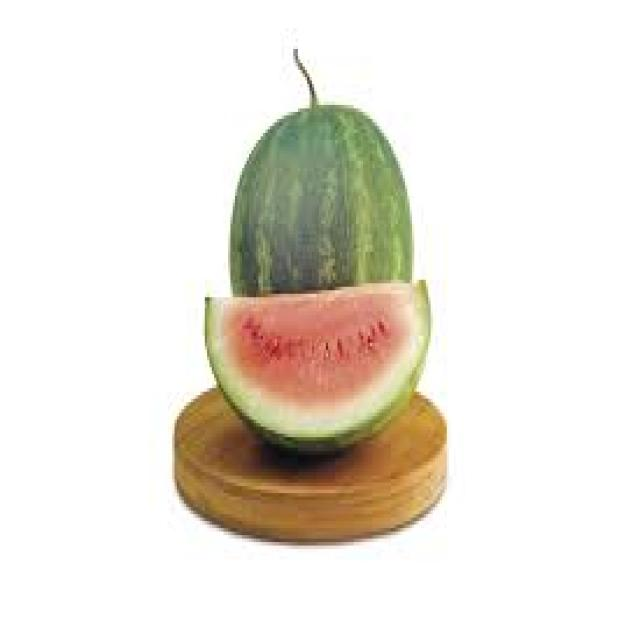watermelon: (228, 45, 414, 294), (202, 276, 430, 455)
